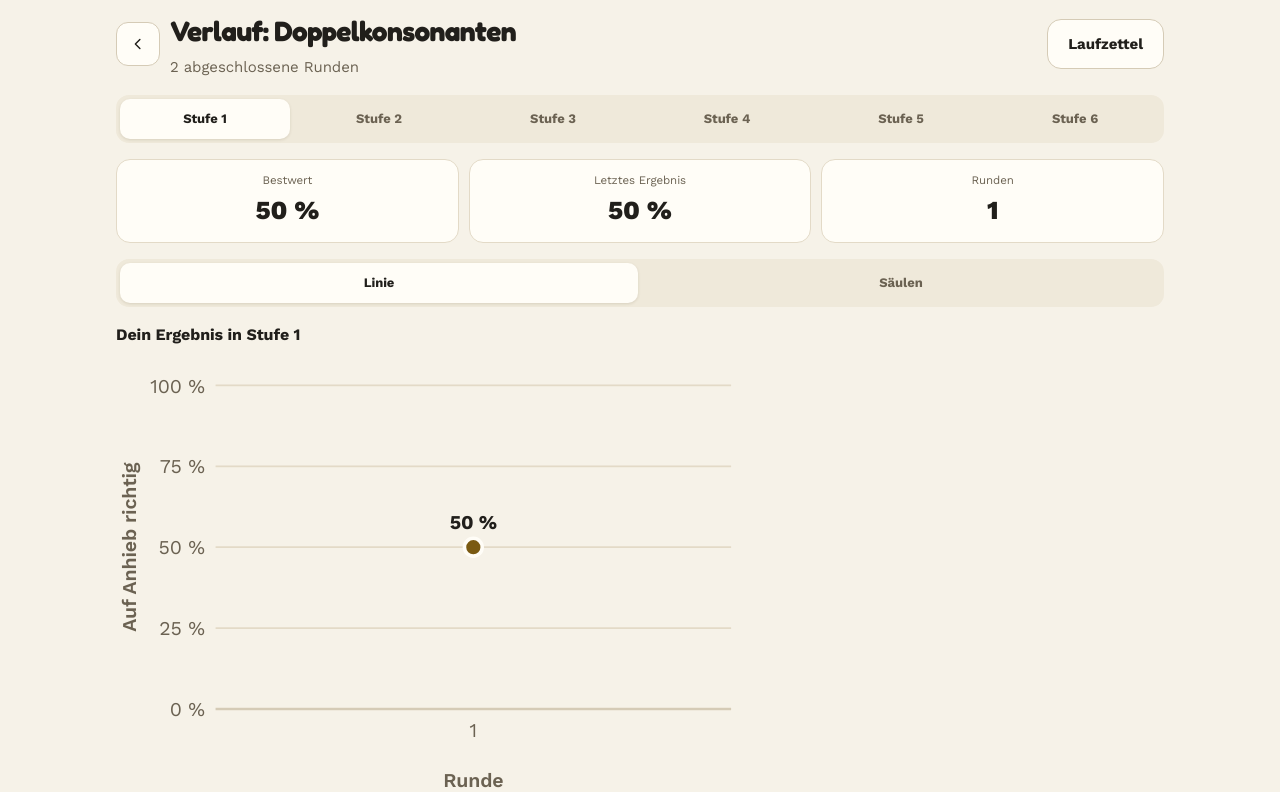
Test: HistoryScreen › macht nur Stufen mit Runden wählbar und wechselt die Anzeige
Expected: the button "Stufe 2" is disabled, left=294, top=98, right=464, bottom=138
Expected: the button "Stufe 6" is disabled, left=990, top=98, right=1160, bottom=138
Click the button "Stufe 4": {"x": 727, "y": 118} left=642, top=98, right=812, bottom=138
(page scrolled)
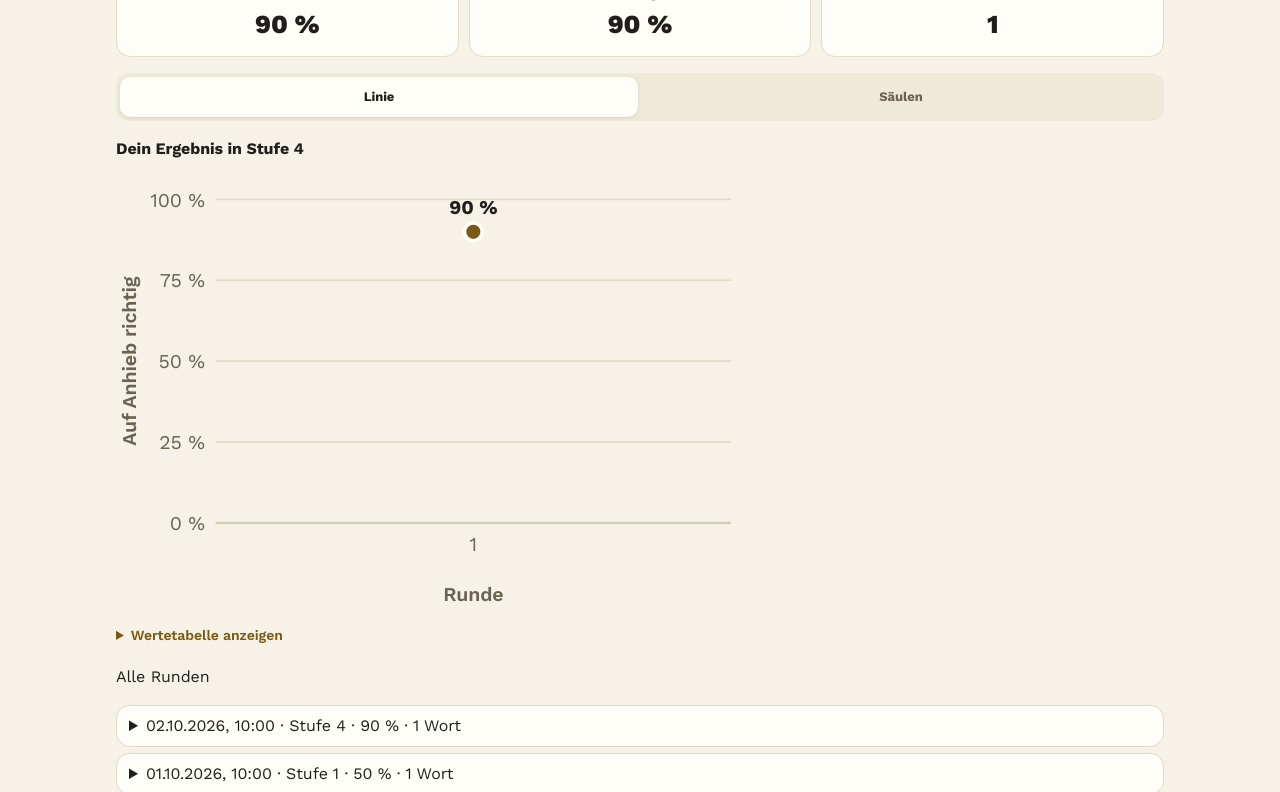
Now the picture named "Stufe 4: ein Wert, 90 Prozent" is shown, box left=116, top=171, right=756, bottom=615
